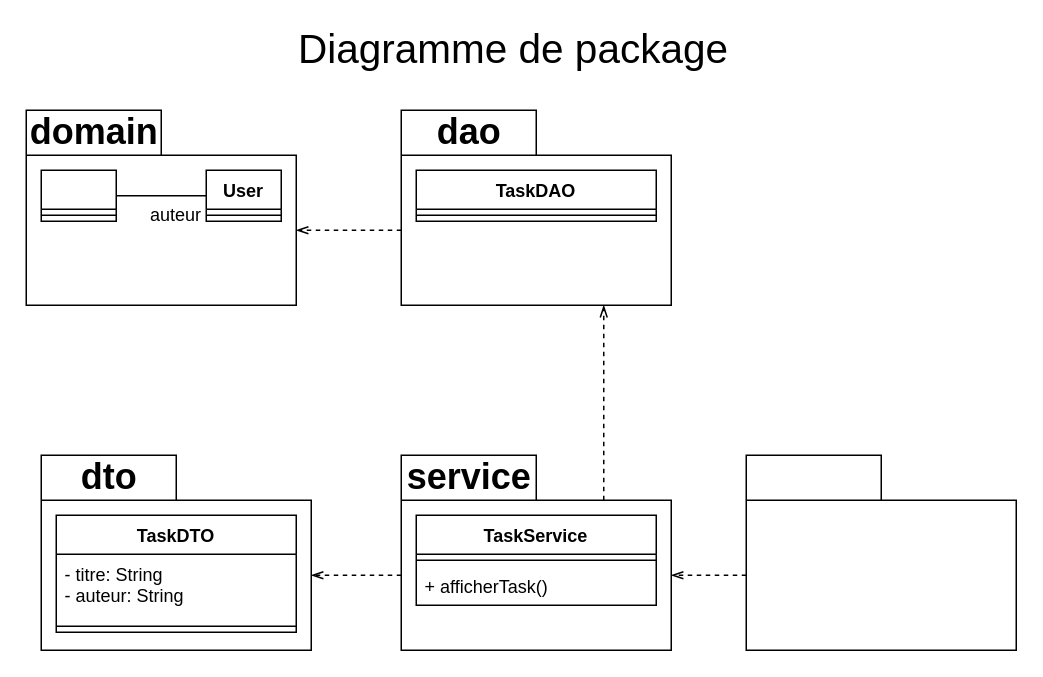
This 1043x677 diagram has some shape labels left out. The shapes that lost their labels are listed below. From the top down, each one's centre as x and y in pixels, then its label:
At pixel 78 195: "Task".
At pixel 880 552: "rest".
